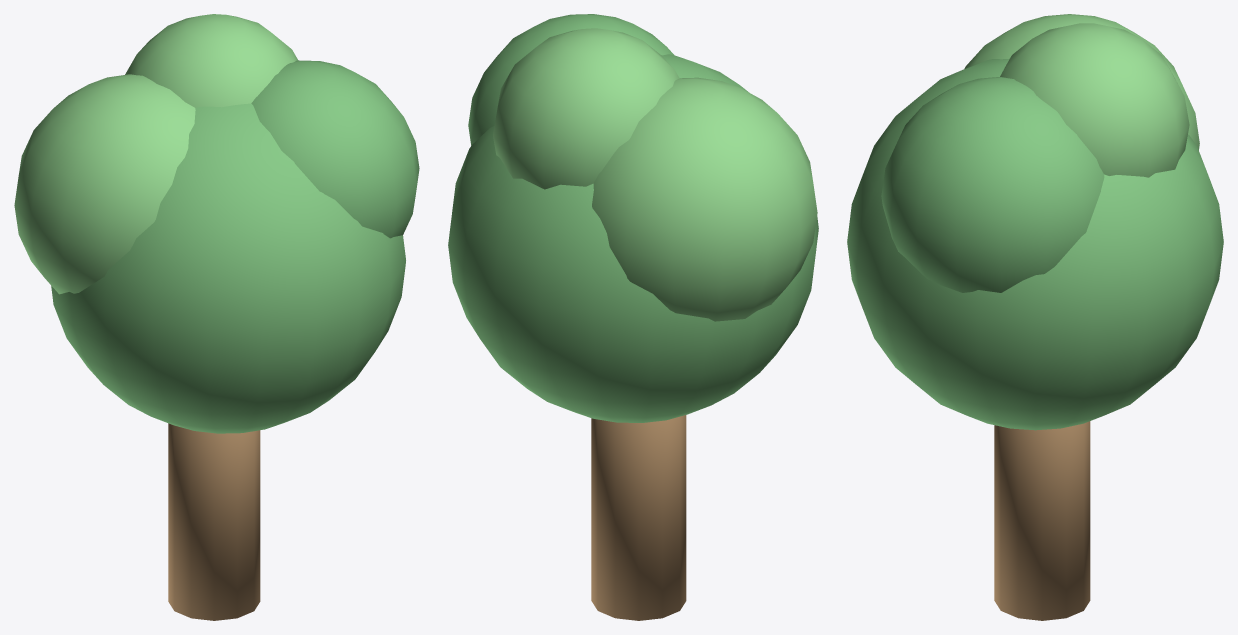
Rendered from tree.glb.
3 renders of one model, left to right at view 1: azimuth 30°, elevation 25°; view 2: azimuth 150°, elevation 25°; view 3: azimuth 270°, elevation 25°, orthographic. The views are drawn at different scales.
Parts seen in each view (by area): view 1: Canopy1, Canopy2, Canopy3, Trunk, Canopy4; view 2: Canopy1, Canopy2, Canopy4, Trunk, Canopy3; view 3: Canopy1, Canopy3, Canopy4, Trunk, Canopy2.
Part boxes in pixels (bbox=[...]): Canopy1: bbox=[51, 103, 405, 433]; Canopy2: bbox=[14, 74, 195, 294]; Canopy3: bbox=[251, 60, 419, 238]; Trunk: bbox=[168, 423, 260, 620]; Canopy4: bbox=[125, 14, 297, 107]; Canopy1: bbox=[448, 54, 818, 422]; Canopy2: bbox=[592, 77, 817, 321]; Canopy4: bbox=[493, 28, 679, 189]; Trunk: bbox=[591, 415, 686, 620]; Canopy3: bbox=[468, 14, 673, 145]; Canopy1: bbox=[847, 58, 1223, 430]; Canopy3: bbox=[881, 77, 1104, 292]; Canopy4: bbox=[1000, 23, 1189, 177]; Trunk: bbox=[994, 421, 1090, 620]; Canopy2: bbox=[964, 14, 1199, 150].
Bounding box in the file's own units: 1.2 × 1.87 × 1.1.
